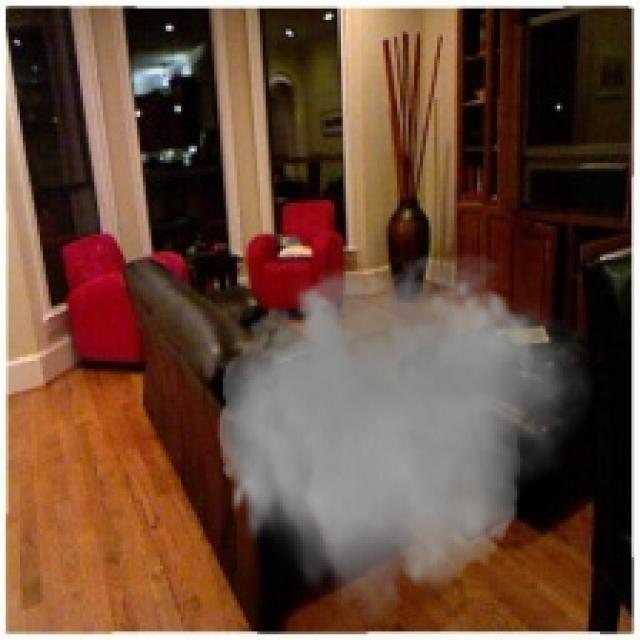Smoke: (208, 237, 594, 637)
